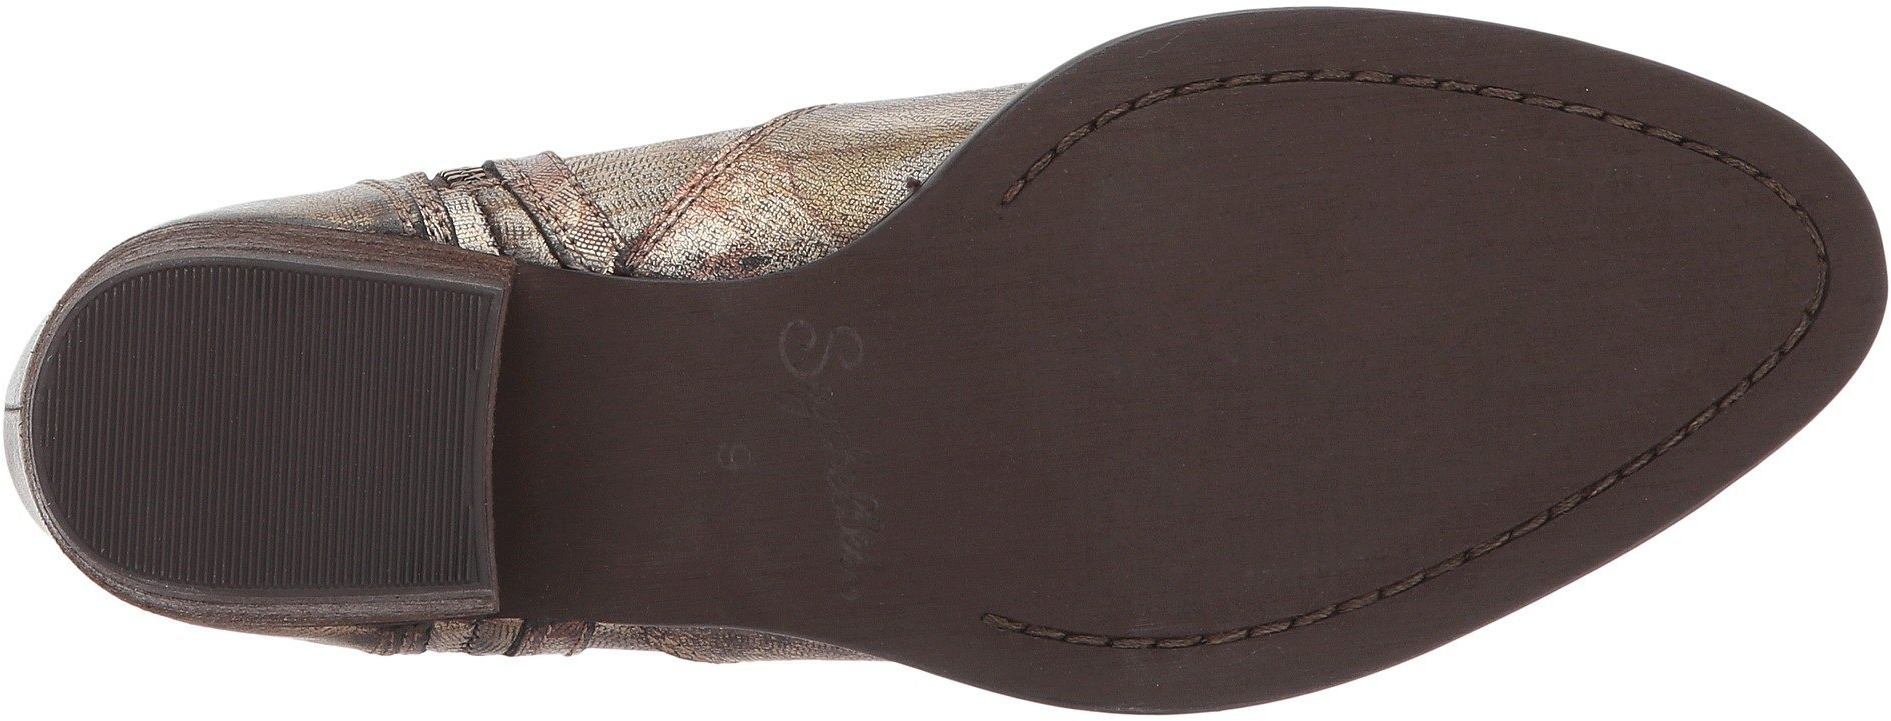exclude: (487, 184, 882, 667)
other: (1103, 188, 1453, 531), (136, 312, 399, 571), (1509, 177, 1715, 382), (891, 250, 1095, 420), (908, 426, 1103, 600), (1229, 90, 1323, 187)
text: (749, 303, 874, 432)
